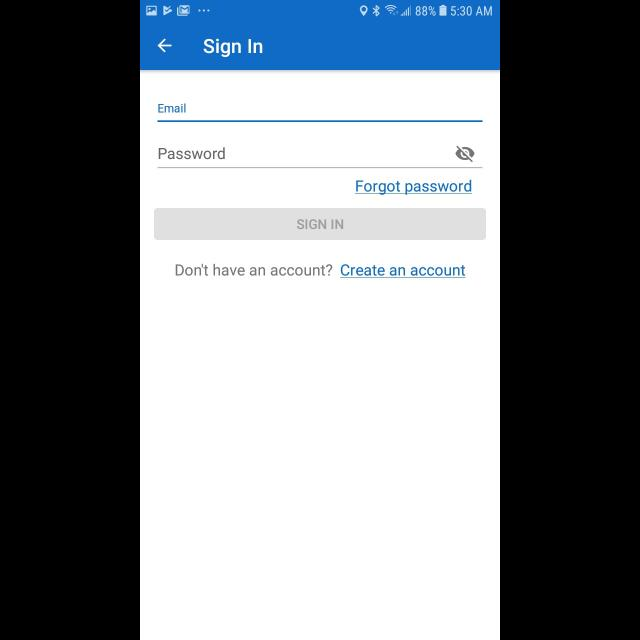icon: (455, 146, 475, 162), (158, 38, 172, 54)
input: (158, 146, 482, 168), (158, 104, 482, 122)
text: (175, 264, 332, 276), (356, 180, 472, 196), (340, 264, 466, 278), (204, 38, 262, 58), (158, 148, 226, 160), (158, 105, 186, 114)
textbutton: (154, 208, 486, 240)
uppertaskbar: (140, 1, 500, 18)
